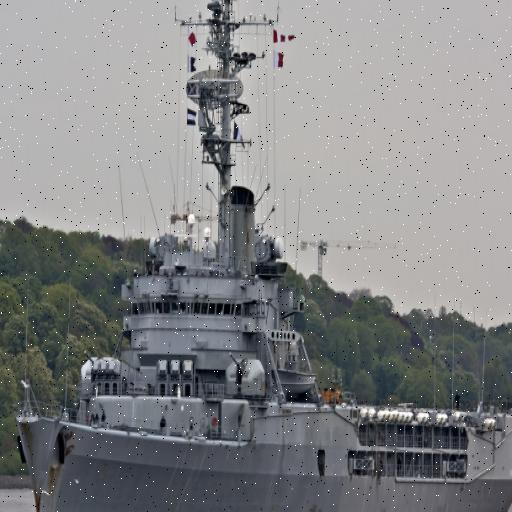Portanaves: (12, 1, 512, 512)
